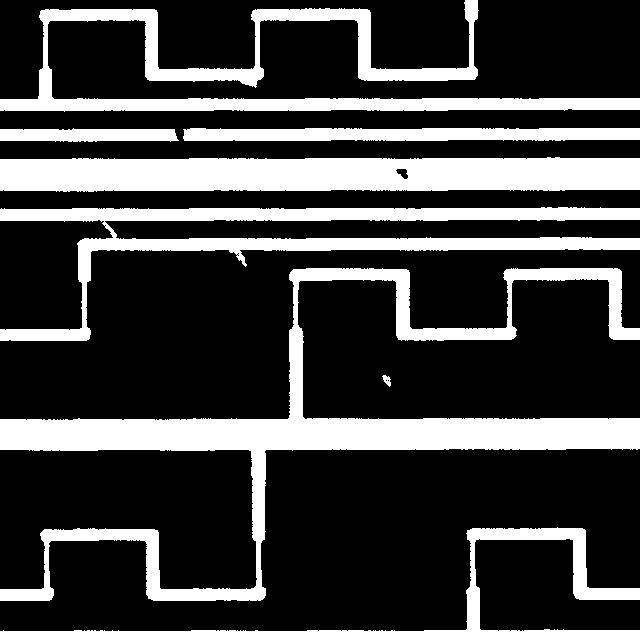copper: (386, 159, 417, 188)
mousebite: (219, 239, 256, 276), (230, 68, 266, 97)
open: (89, 208, 128, 250)
pin-hole: (372, 365, 400, 396)
short: (165, 113, 195, 156)
